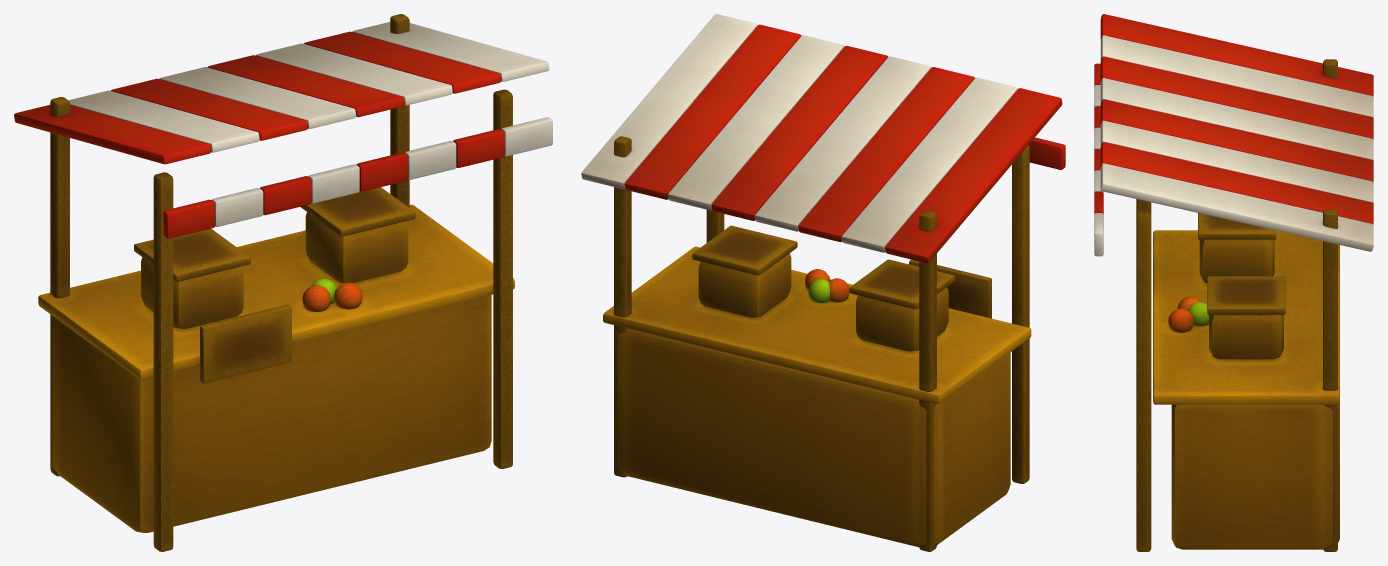
Rendered from MarketStall.fbx.
The picture shows the model from 3 angles, left to right: view 1: azimuth 30°, elevation 25°; view 2: azimuth 150°, elevation 25°; view 3: azimuth 270°, elevation 25°; orthographic projection. The views are drawn at different scales.
Visible parts, largest first — view 1: MarketStall; view 2: MarketStall; view 3: MarketStall.
Boxes of the visible parts, box(x1,y1,x2,y2) form: MarketStall: box(14, 14, 552, 551); MarketStall: box(581, 14, 1065, 551); MarketStall: box(1094, 14, 1373, 551).
Bounding box in the file's own units: 2.16 × 2.22 × 1.5.
